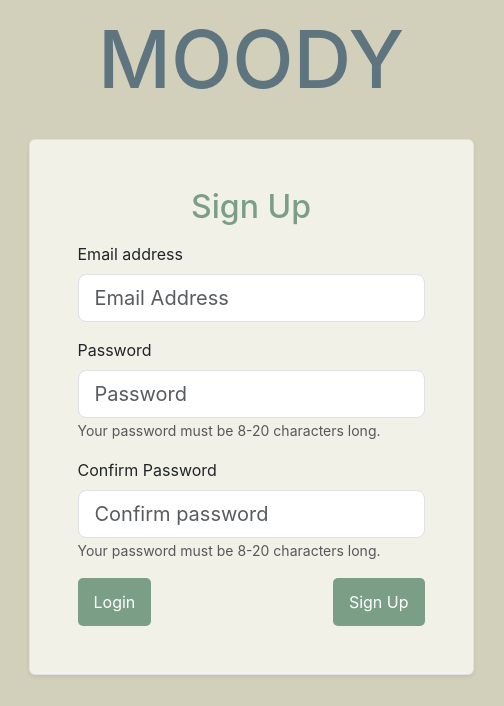
it: SignUp Component › shows invalid feedback when the confirmation password is not provided
Fill out the email and password but not the confirmation password
In the field with placeholder "Email address": (251, 298) [78, 274, 424, 322], type "test@example.com"
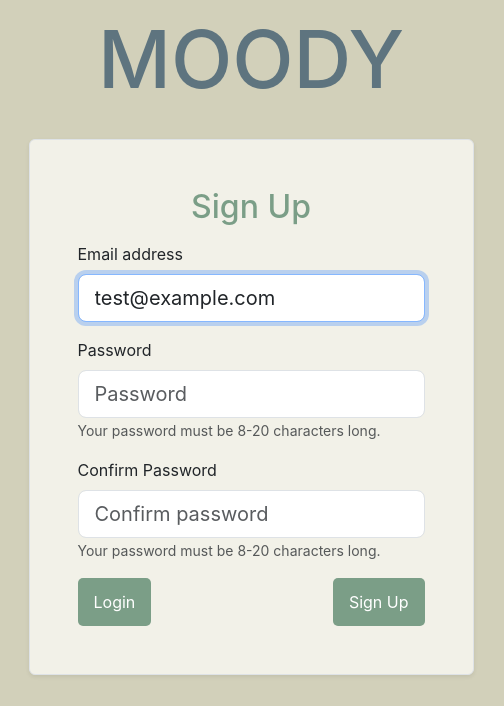
In the password field with placeholder "Password": (251, 394) [78, 370, 424, 418], type "password123"
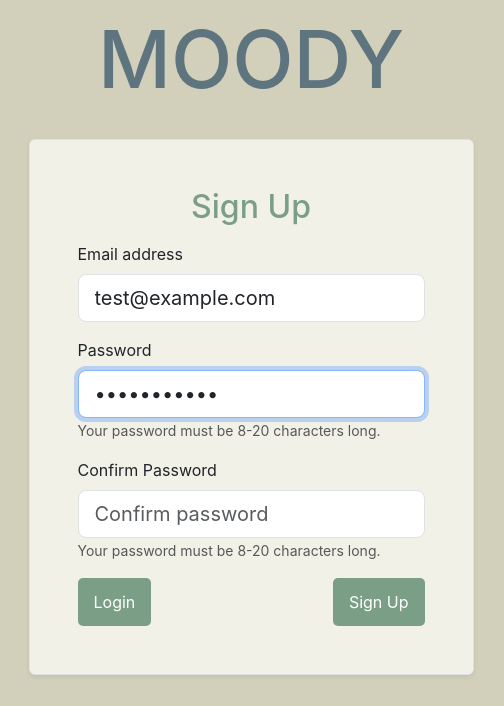
Click the button "Sign Up": (379, 602) [333, 578, 424, 626]
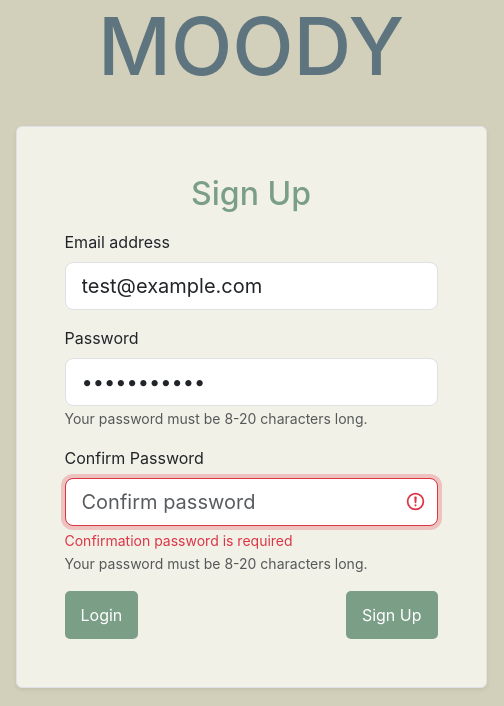
Result: the text "Confirmation password is required" is shown at [64, 532, 293, 549]
